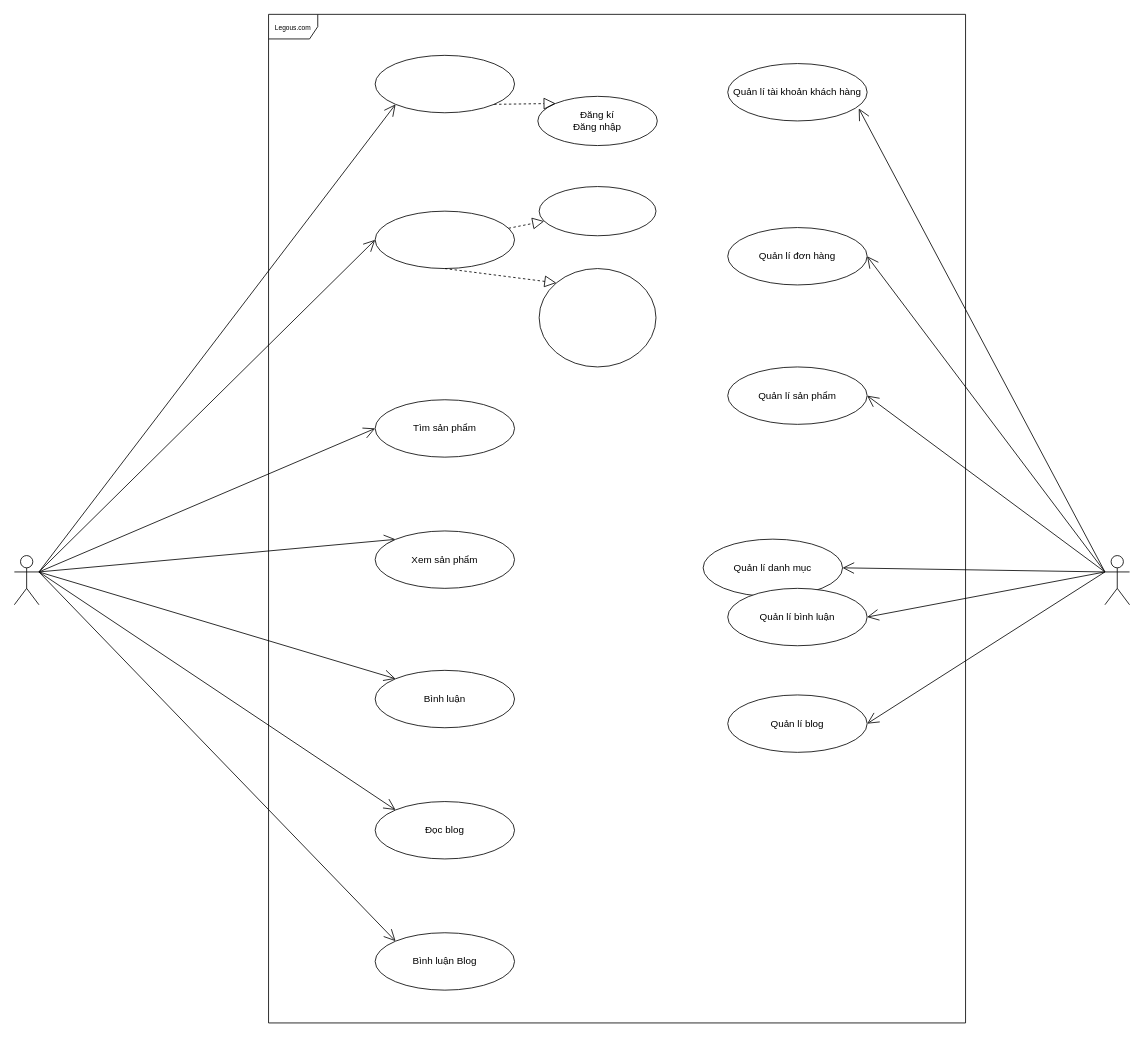
This 1146x1037 diagram has some shape labels left out. Here are the shapes that lost their labels. From the top down, the centre of each, then its label:
At point (444, 84): "Quản lí tài khoản cá nhân".
At point (597, 211): "Đặt hàng Thanh toán".
At point (444, 239): "Shoping cart".
At point (597, 317): "Thêm Sửa Xóa sản phẩm trong giỏ hàng".
At point (26, 580): "User".
At point (1117, 580): "Admin".
